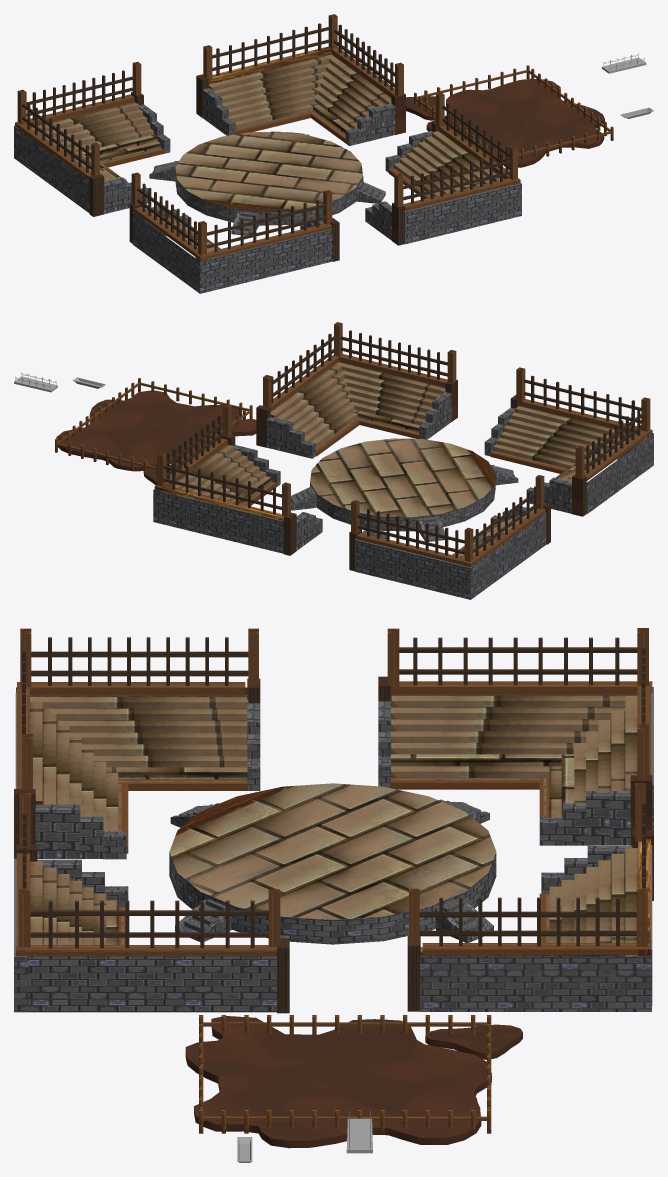
File: SM_Arena_Pack_FBX's.fbx
3 renders of one model, top to bottom at view 1: azimuth 30°, elevation 25°; view 2: azimuth 150°, elevation 25°; view 3: azimuth 270°, elevation 25°, orthographic. The views are drawn at different scales.
Parts seen in each view (by area): view 1: SM_Poultry_bash_Arena, SM_Poultry_Bash_Stage_01, SM_Chonk_Jousting_Arena, SM_Respawn_platform; view 2: SM_Poultry_bash_Arena, SM_Poultry_Bash_Stage_01, SM_Chonk_Jousting_Arena, SM_Respawn_platform; view 3: SM_Poultry_bash_Arena, SM_Poultry_Bash_Stage_01, SM_Chonk_Jousting_Arena, SM_Respawn_platform.
Boxes of the visible parts, x1=… form: SM_Poultry_bash_Arena: x1=14, y1=14, x2=521, y2=293; SM_Poultry_Bash_Stage_01: x1=175, y1=131, x2=363, y2=225; SM_Chonk_Jousting_Arena: x1=406, y1=65, x2=613, y2=167; SM_Respawn_platform: x1=602, y1=53, x2=646, y2=73; SM_Poultry_bash_Arena: x1=153, y1=322, x2=653, y2=599; SM_Poultry_Bash_Stage_01: x1=310, y1=438, x2=495, y2=531; SM_Chonk_Jousting_Arena: x1=55, y1=378, x2=256, y2=485; SM_Respawn_platform: x1=14, y1=372, x2=57, y2=392; SM_Poultry_bash_Arena: x1=14, y1=628, x2=653, y2=1013; SM_Poultry_Bash_Stage_01: x1=169, y1=783, x2=496, y2=944; SM_Chonk_Jousting_Arena: x1=185, y1=1015, x2=522, y2=1148; SM_Respawn_platform: x1=346, y1=1111, x2=372, y2=1153.
Bounding box in the file's own units: 7169 × 865 × 4248.
